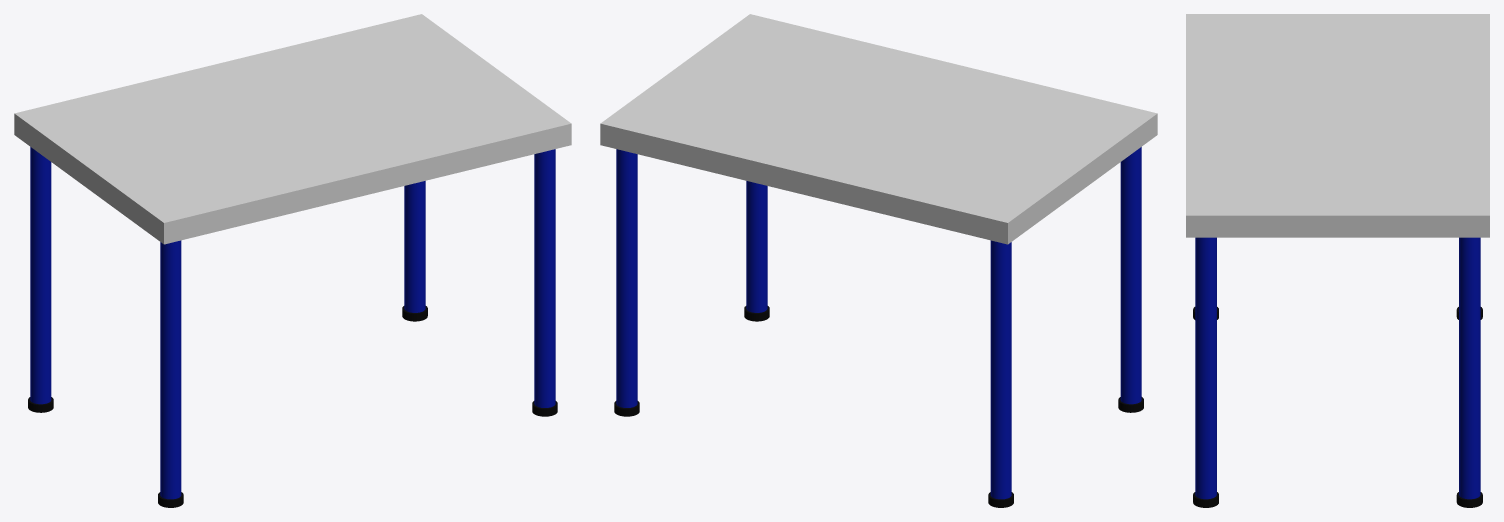
File: LINNMON_ADILS_Table.obj
The picture shows the model from 3 angles, left to right: view 1: azimuth 30°, elevation 25°; view 2: azimuth 150°, elevation 25°; view 3: azimuth 270°, elevation 25°; orthographic projection.
Visible parts, largest first — view 1: Furniture, Circle008, Circle001, Circle007, Circle004; view 2: Furniture, Circle007, Circle004, Circle008, Circle001; view 3: Furniture, Circle001, Circle004.
Part boxes in pixels (x1,y1,x2,y2): Furniture: (14, 14, 571, 244); Circle008: (160, 240, 181, 499); Circle001: (534, 149, 555, 407); Circle007: (30, 147, 51, 404); Circle004: (404, 181, 425, 312); Furniture: (600, 14, 1157, 244); Circle007: (990, 240, 1011, 499); Circle004: (616, 149, 637, 407); Circle008: (1120, 147, 1141, 404); Circle001: (746, 181, 767, 312); Furniture: (1186, 14, 1489, 237); Circle001: (1195, 237, 1216, 499); Circle004: (1459, 237, 1480, 499).
Bounding box in the file's own units: 1100 × 750 × 700.
